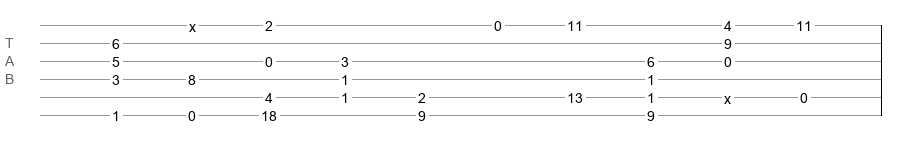0: (188, 108, 196, 118), (265, 54, 273, 64), (494, 18, 502, 28), (724, 54, 732, 64), (800, 90, 808, 100)
1: (112, 108, 120, 118), (341, 90, 349, 100), (341, 72, 349, 82), (647, 72, 655, 82), (647, 90, 655, 100)
11: (567, 18, 583, 28), (796, 18, 812, 28)
13: (567, 90, 583, 100)
18: (261, 108, 277, 118)
2: (265, 18, 273, 28), (418, 90, 426, 100)
3: (112, 72, 120, 82), (341, 54, 349, 64)
4: (265, 90, 273, 100), (724, 18, 732, 28)
5: (112, 54, 120, 64)
6: (112, 36, 120, 46), (647, 54, 655, 64)
8: (188, 72, 196, 82)
9: (418, 108, 426, 118), (647, 108, 655, 118), (724, 36, 732, 46)
x: (189, 19, 196, 27), (724, 91, 731, 99)
